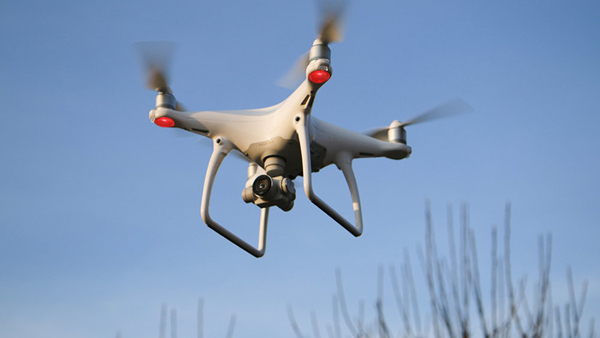drone: (137, 33, 415, 259)
